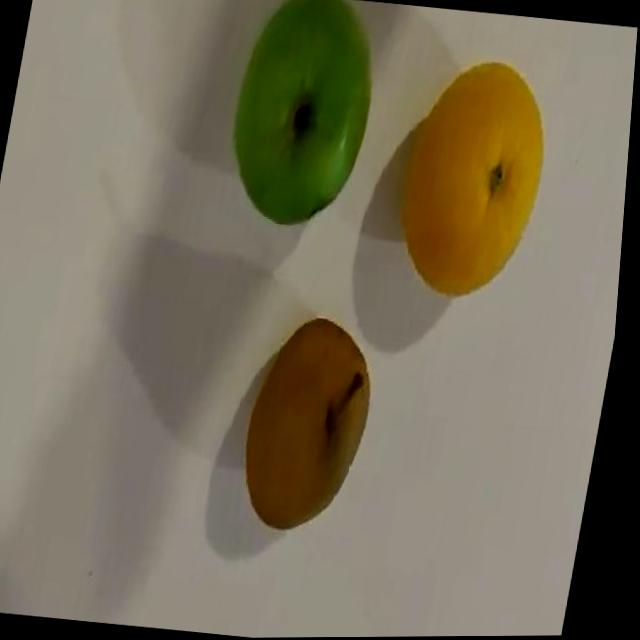Apple: (219, 0, 389, 232), (238, 311, 391, 537)
Orange: (390, 53, 563, 305)
